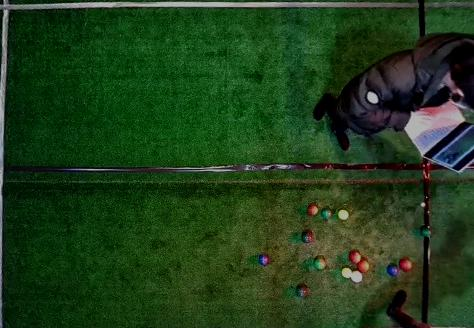blue: (258, 254, 269, 266), (387, 264, 398, 275)
green: (314, 258, 326, 270), (301, 232, 313, 243), (296, 285, 307, 297), (321, 208, 332, 219), (420, 226, 431, 237)
red: (399, 258, 412, 272), (357, 260, 370, 272), (349, 251, 361, 264), (351, 271, 363, 282), (307, 205, 318, 215)
vline: (423, 239, 473, 325), (422, 158, 473, 229), (0, 0, 11, 327), (418, 0, 473, 36)
white: (420, 202, 426, 207)
yellow: (338, 209, 349, 220), (342, 268, 352, 278)
